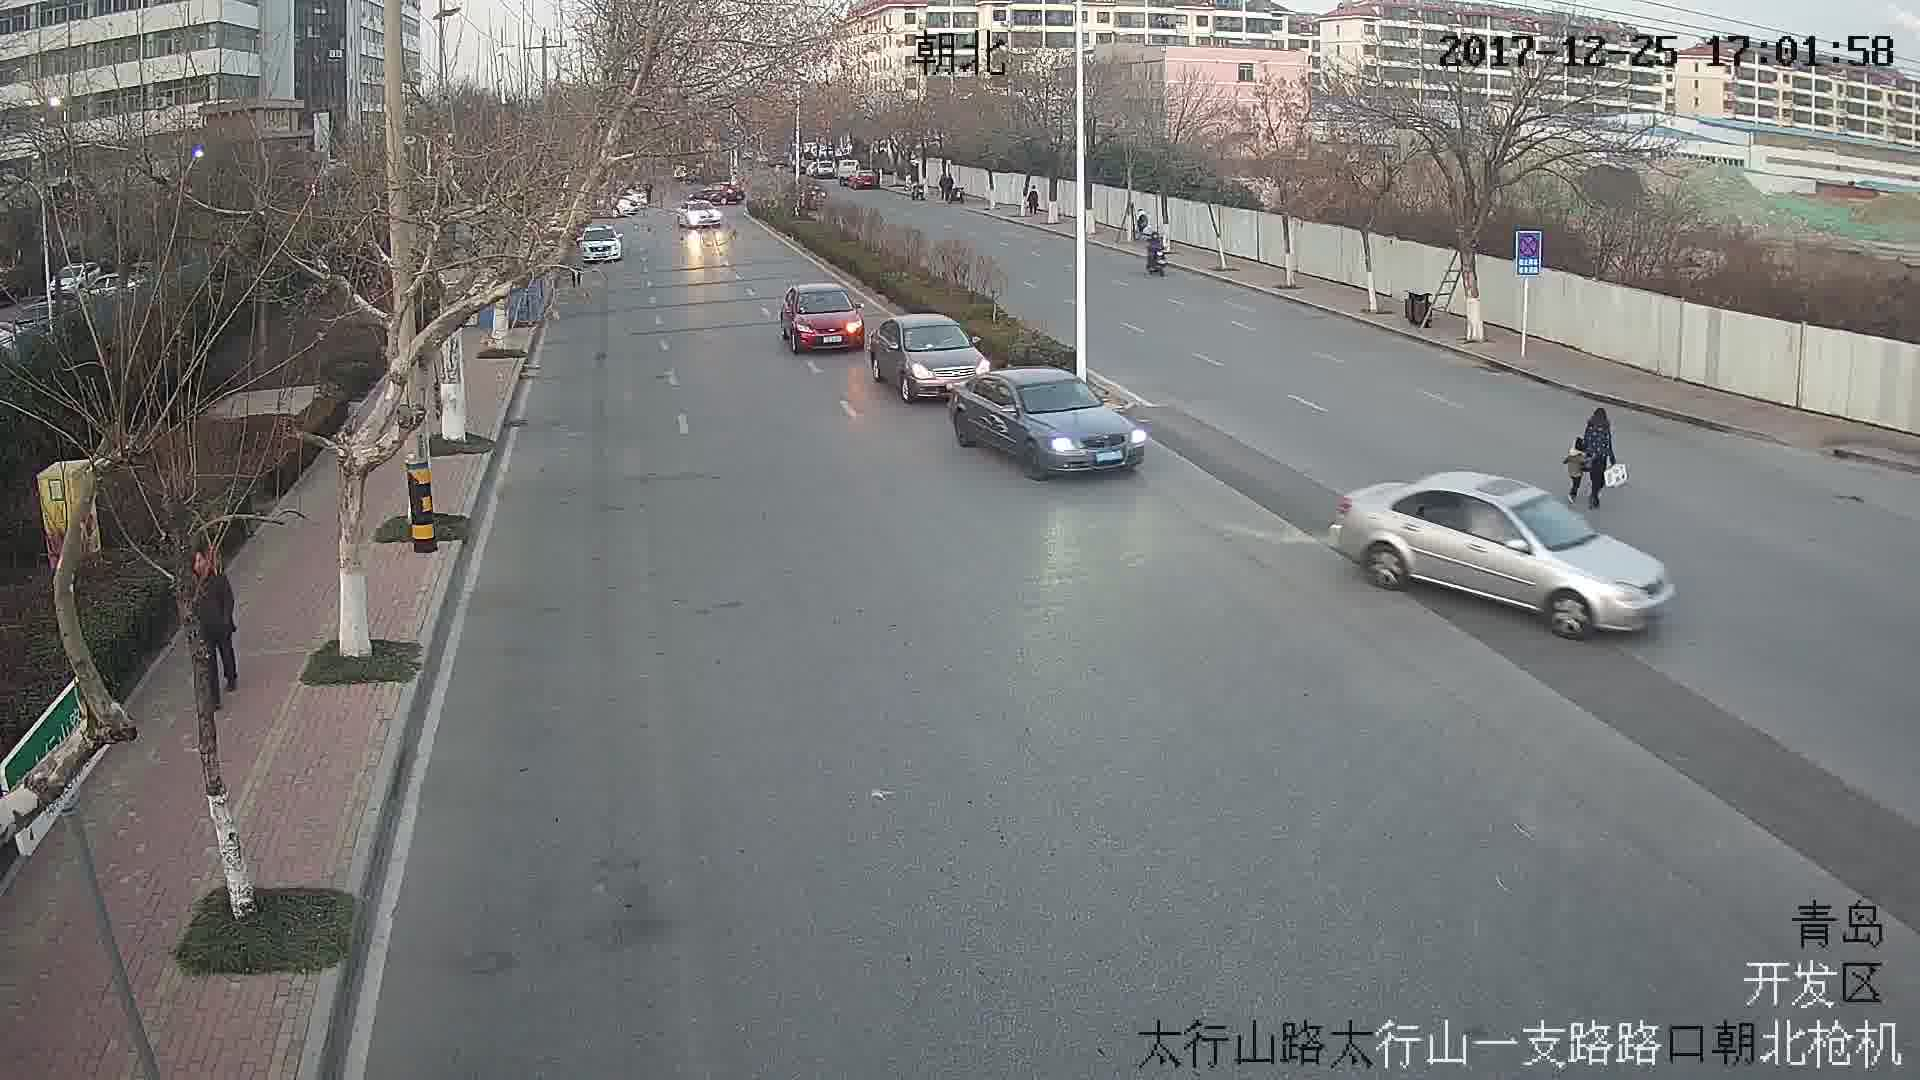car: (1334, 471, 1678, 639), (959, 366, 1149, 475), (867, 313, 993, 398), (782, 285, 866, 350), (580, 227, 624, 262), (678, 196, 725, 228)
person: (182, 557, 250, 691), (1592, 410, 1617, 509), (1567, 438, 1588, 507), (1148, 228, 1171, 275)
